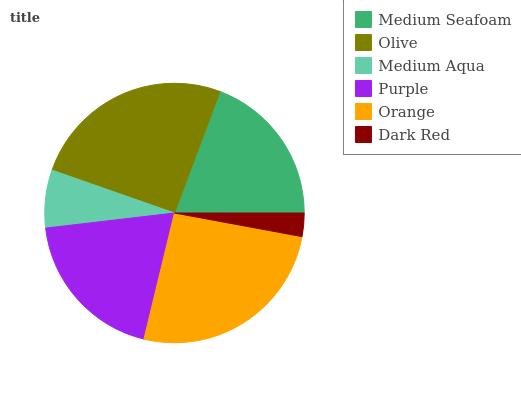legend: (344, 0, 521, 156)
sector: (52, 81, 224, 212), (144, 213, 302, 344), (44, 212, 177, 339), (175, 92, 304, 212), (43, 169, 175, 227), (174, 212, 306, 237)
